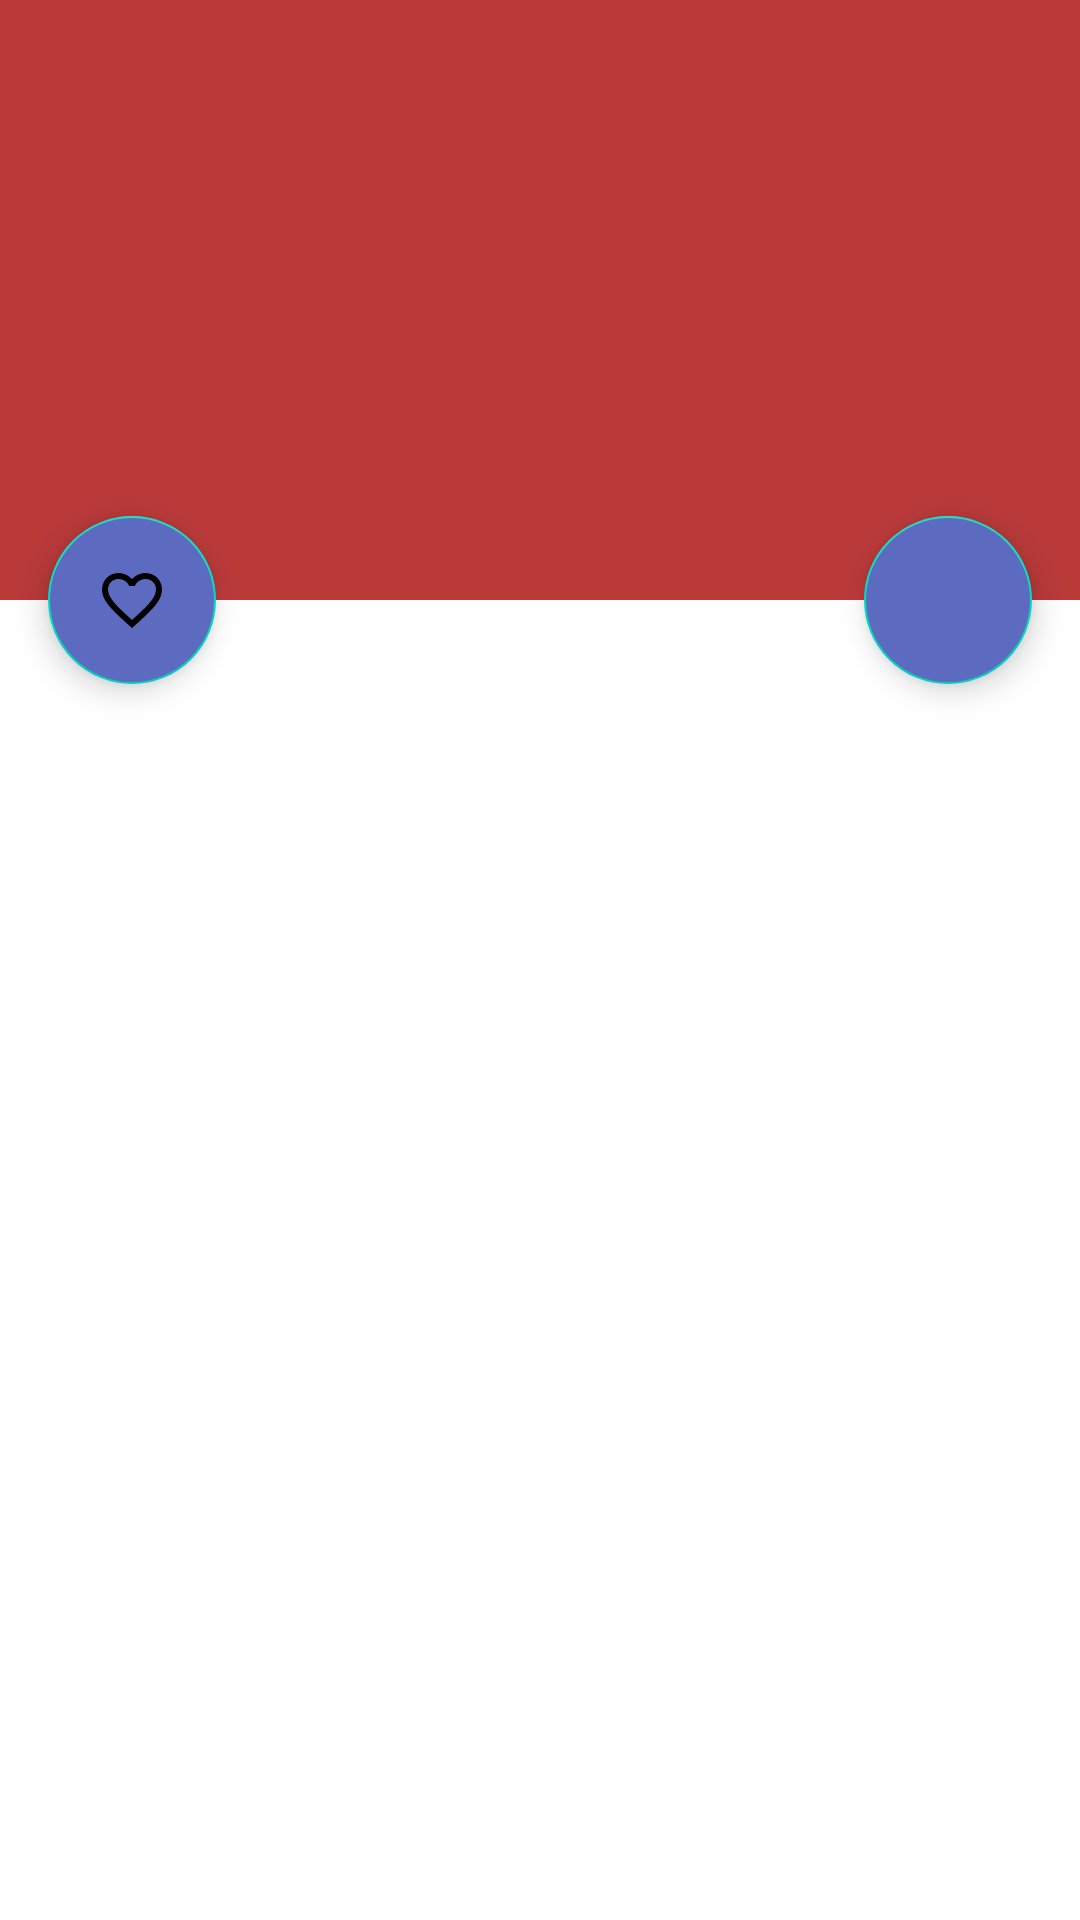

Where to tap for icons on this 1080 x 1920 app screen, as [x,y]:
favorite border: [132,600]
